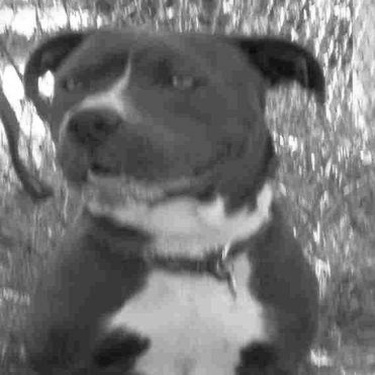dog: (18, 21, 332, 370)
